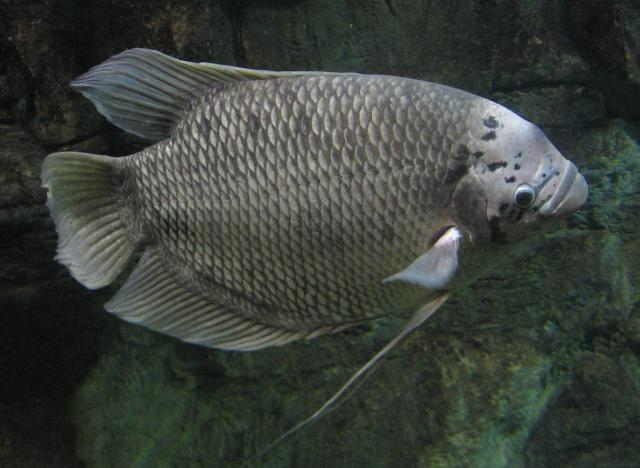Mulut: (516, 134, 610, 232)
Sirip Dada: (360, 218, 478, 304)
Sirip Ekor: (29, 128, 150, 298)
Sirip Punggung: (56, 32, 328, 152)
